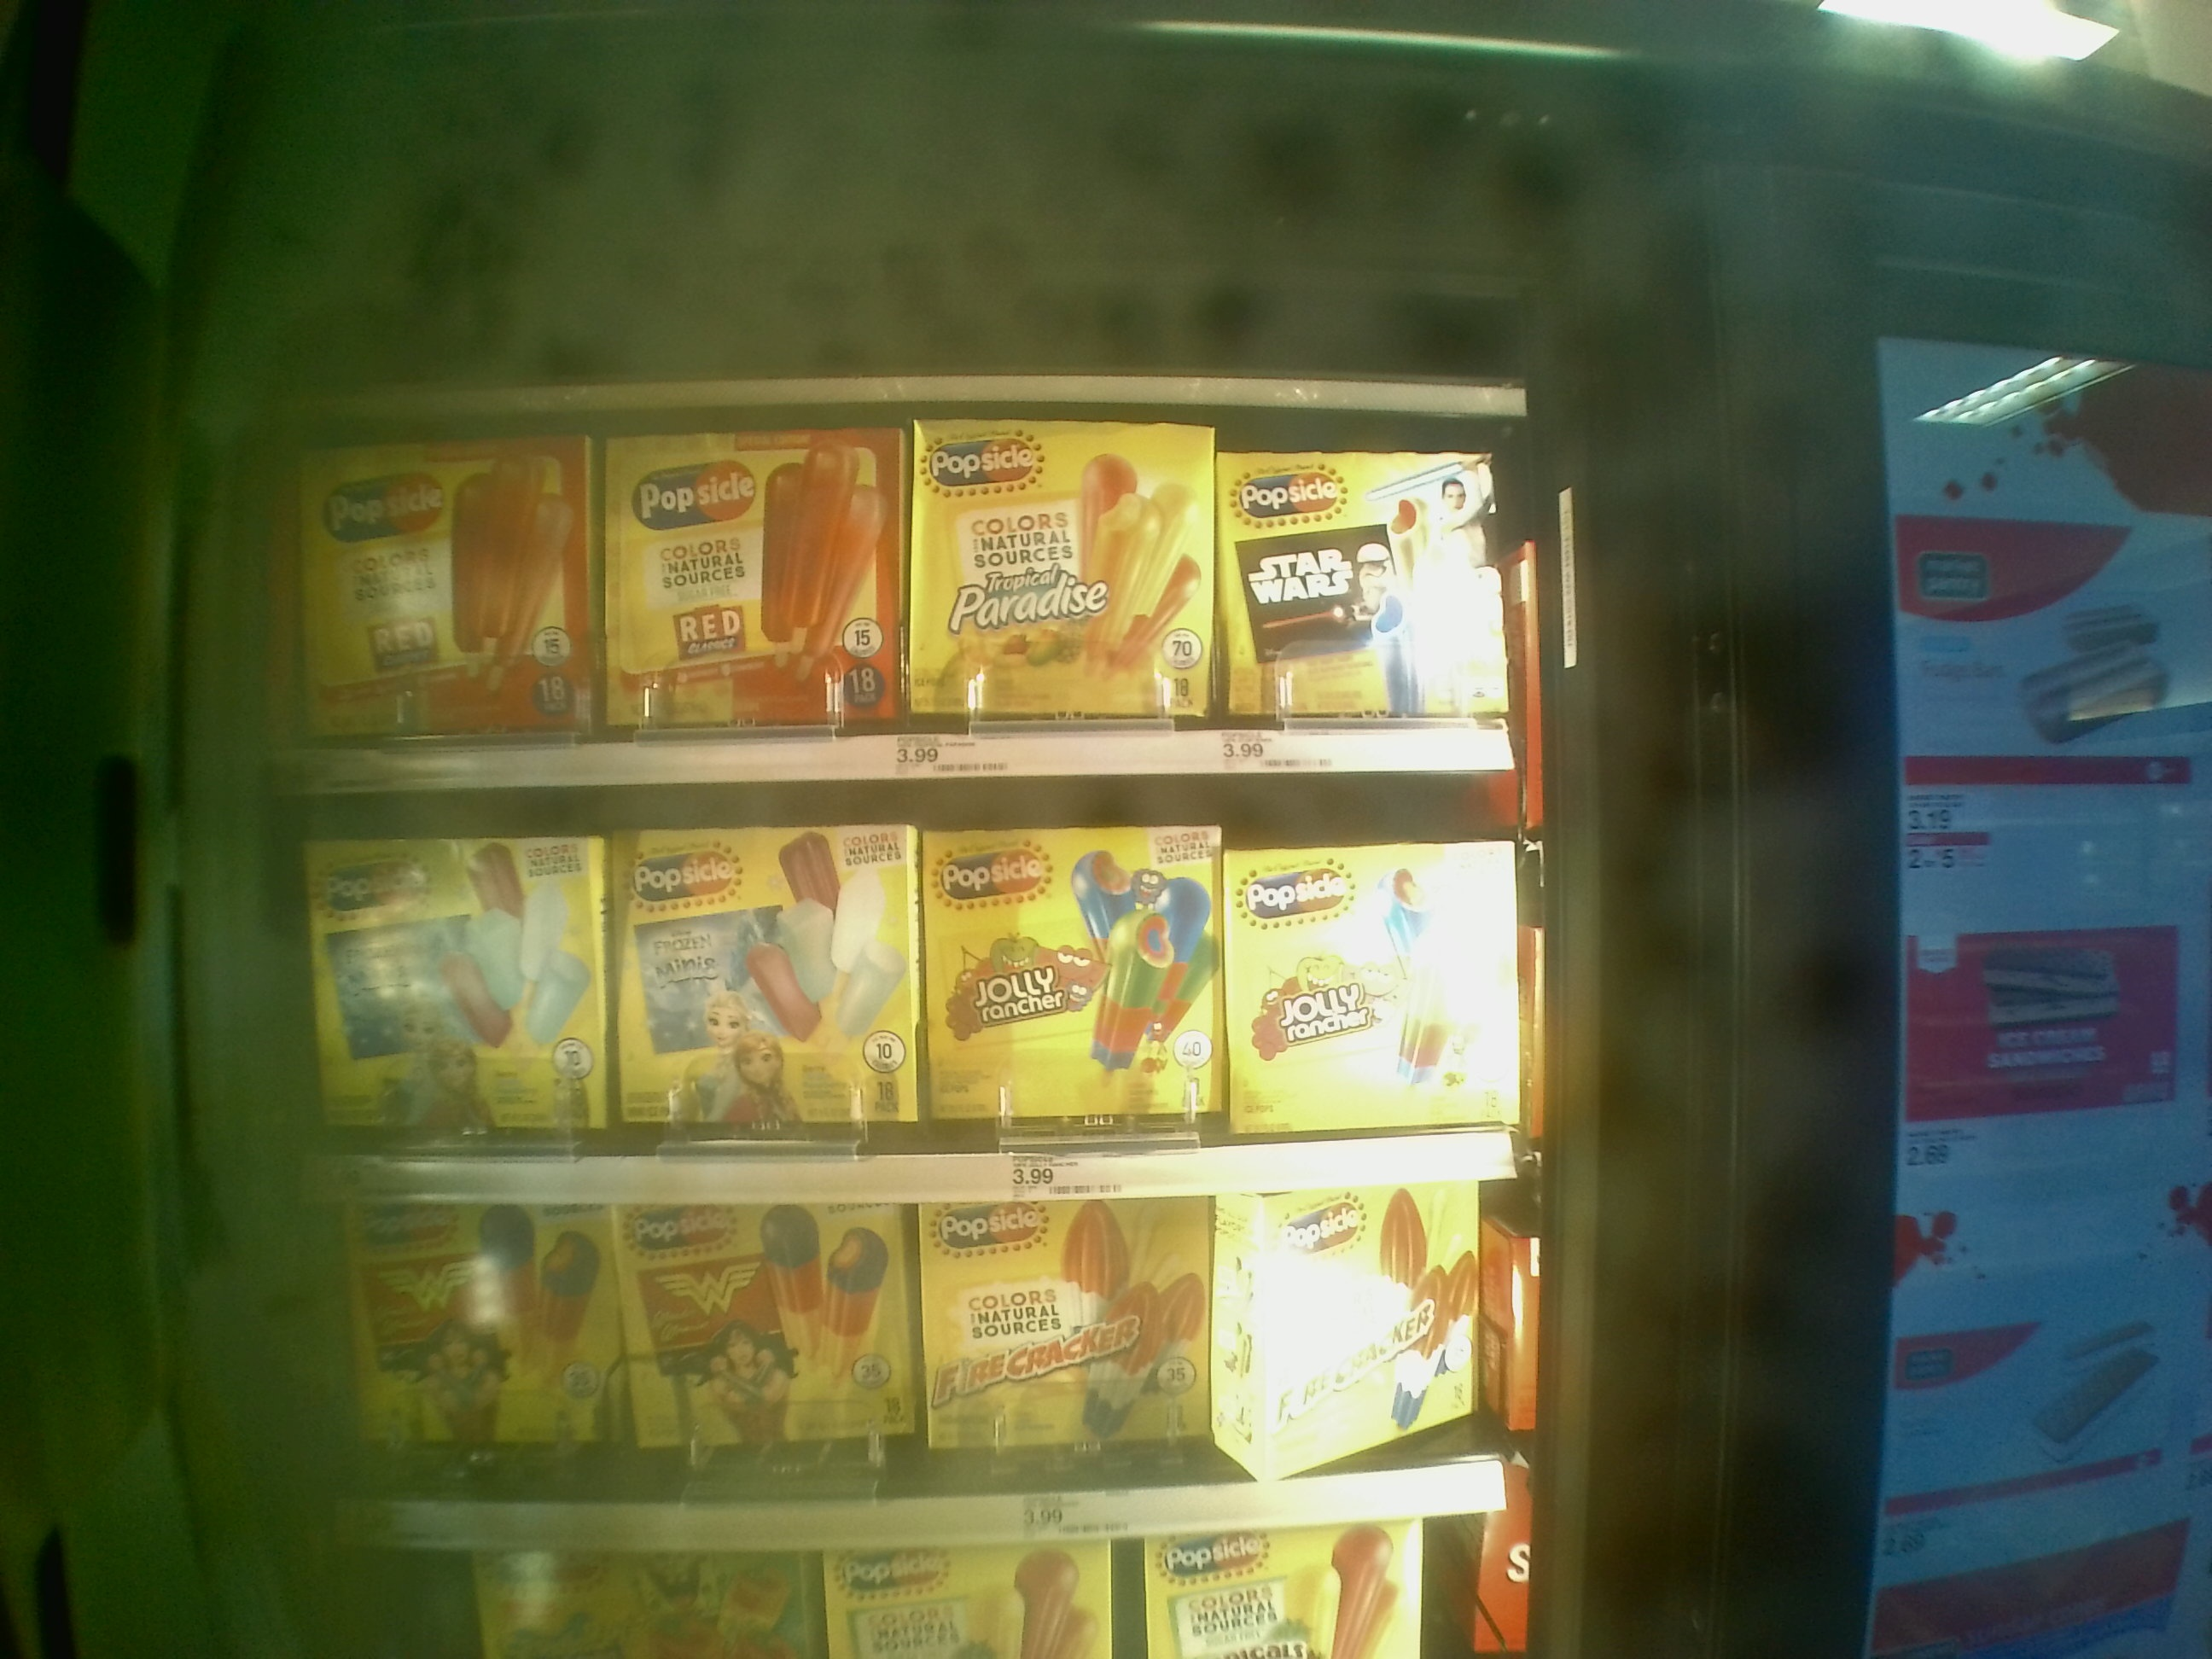frozen-food-shelf: (270, 793, 1555, 1199), (258, 453, 1526, 788), (310, 1201, 1486, 1537)
